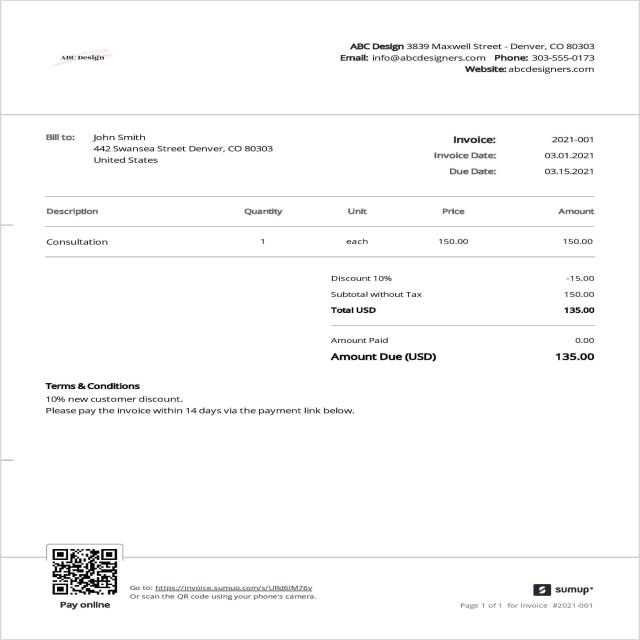paragraph: (17, 538, 334, 618), (35, 378, 361, 434), (322, 269, 608, 325), (331, 31, 610, 85), (36, 120, 290, 175), (322, 335, 611, 371), (425, 131, 602, 180), (448, 574, 614, 622), (46, 45, 128, 72)
table: (34, 187, 616, 258)
